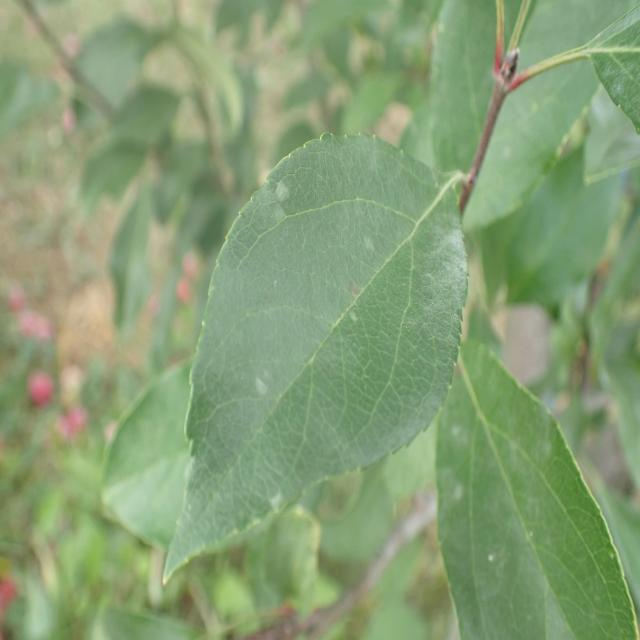Powdery_mildew: (216, 156, 437, 533), (421, 374, 574, 640)
